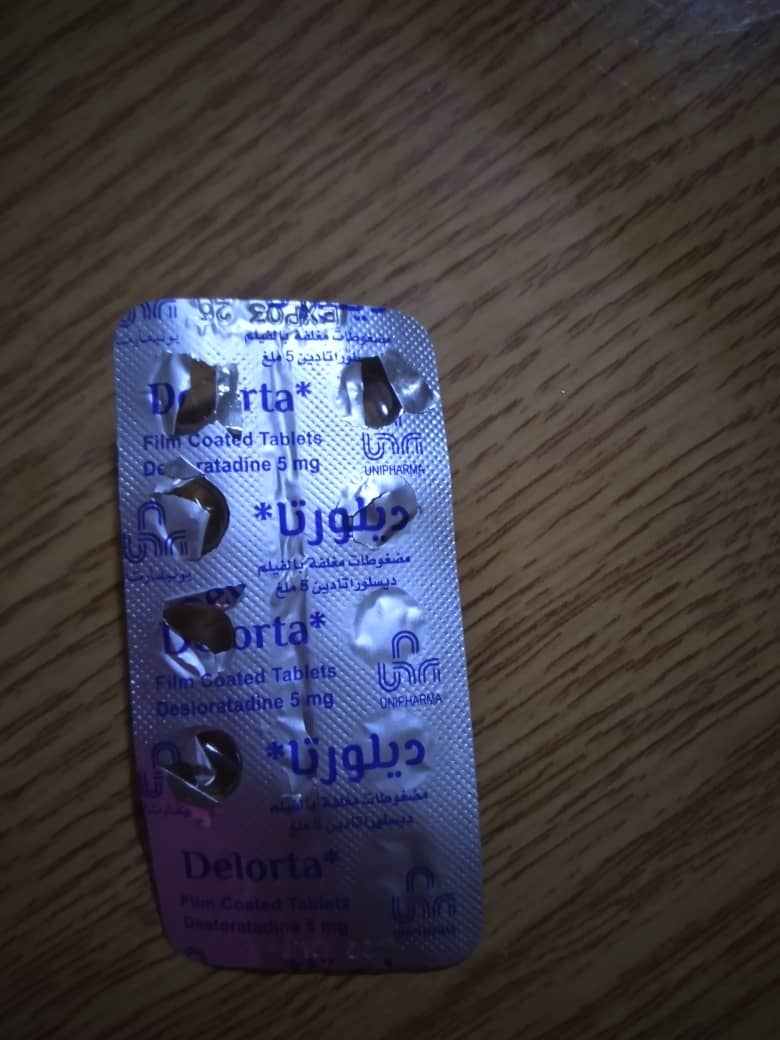Medicine: (80, 277, 530, 1023)
